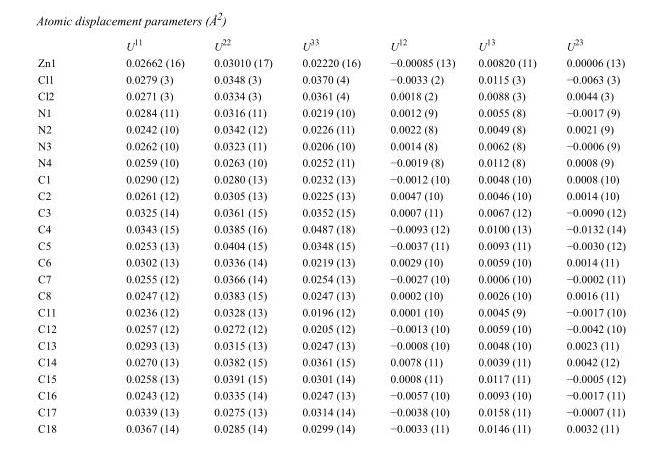table: (37, 36, 624, 434)
table column: (90, 36, 198, 434), (374, 36, 466, 434), (198, 36, 286, 434), (286, 36, 374, 434), (466, 36, 550, 434), (550, 36, 624, 434), (37, 36, 90, 434)
table column header: (37, 36, 624, 53)
table row: (37, 36, 624, 53), (37, 53, 624, 70), (37, 70, 624, 87), (37, 103, 624, 120), (37, 120, 624, 137), (37, 153, 624, 170), (37, 186, 624, 203), (37, 203, 624, 220), (37, 236, 624, 253), (37, 253, 624, 270), (37, 286, 624, 303), (37, 319, 624, 336), (37, 336, 624, 353), (37, 369, 624, 386), (37, 386, 624, 403), (37, 87, 624, 103), (37, 137, 624, 153), (37, 170, 624, 186), (37, 220, 624, 236), (37, 270, 624, 286), (37, 303, 624, 319), (37, 353, 624, 369), (37, 403, 624, 419), (37, 419, 624, 434)
